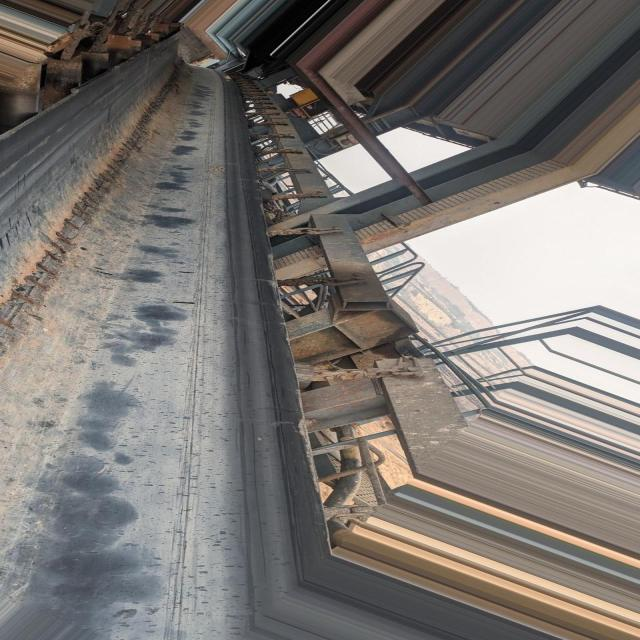patch work: (0, 55, 195, 337)
